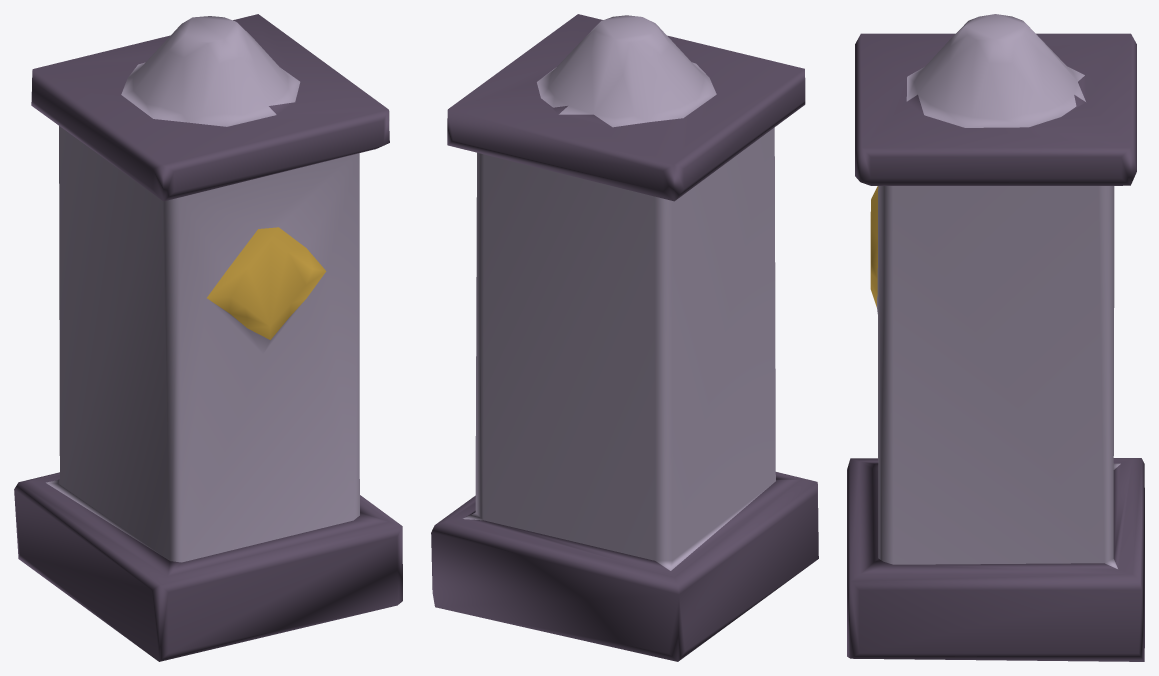
The model's file is marble_post.glb.
3 renders of one model, left to right at view 1: azimuth 30°, elevation 25°; view 2: azimuth 150°, elevation 25°; view 3: azimuth 270°, elevation 25°, orthographic. The views are drawn at different scales.
Parts seen in each view (by area): view 1: marble_post; view 2: marble_post; view 3: marble_post.
Boxes of the visible parts, x1,y1,x2,y2 form: marble_post: (14, 14, 402, 661); marble_post: (431, 14, 818, 661); marble_post: (847, 14, 1144, 661).
Size of the model in its own units: 0.76 by 1.62 by 0.76.
